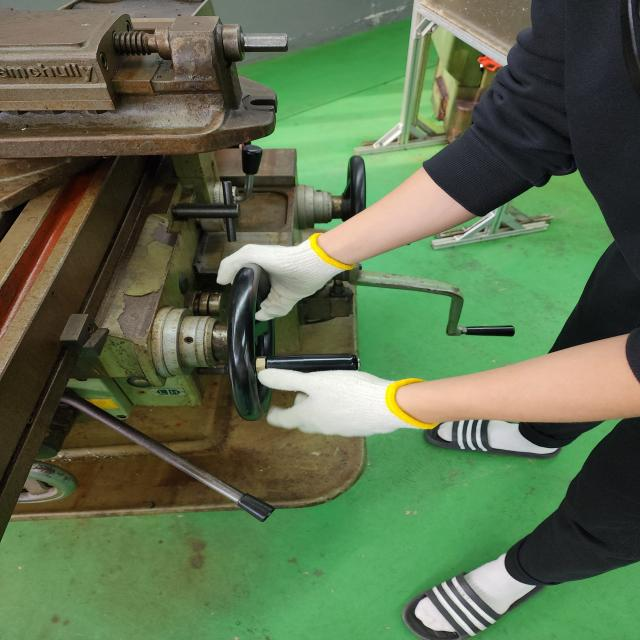Boots: (218, 232, 356, 322), (258, 368, 438, 436)
